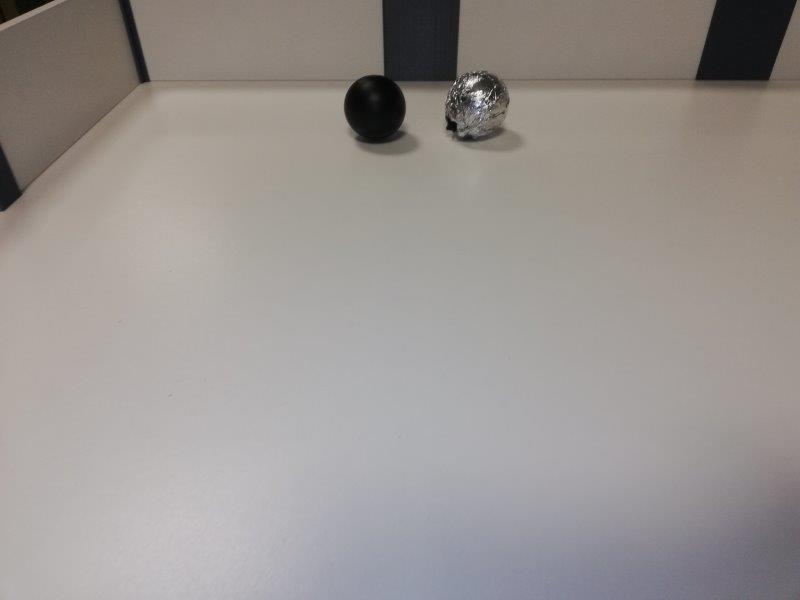bianca: (444, 72, 512, 139)
nera: (344, 75, 408, 141)
